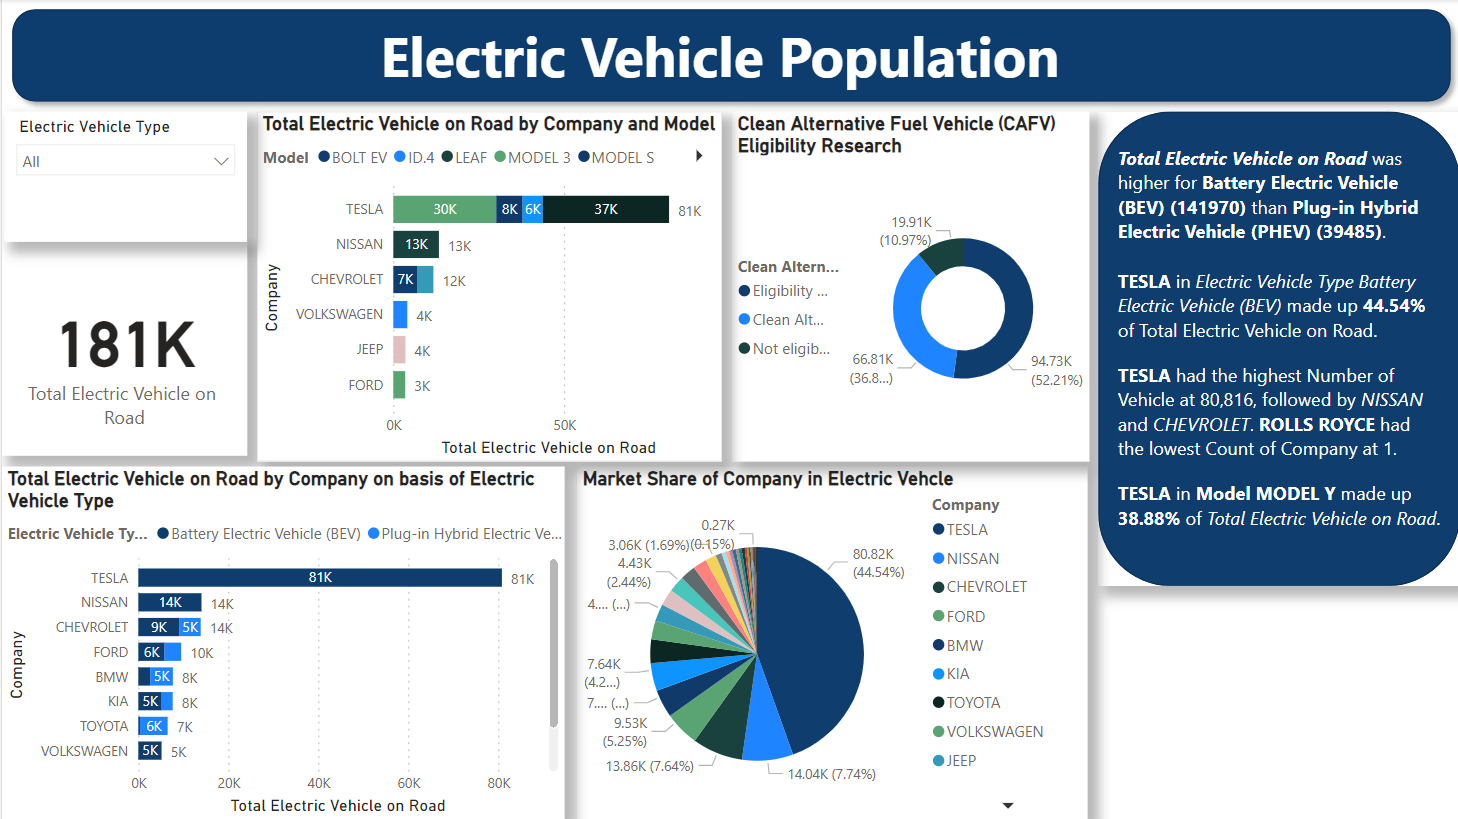

The dashboard page shown, as its layout file describes it:
{"tool":"powerbi","page":{"name":"Dashboard","canvas":[1280,720],"ordinal":0},"visuals":[{"type":"card","fields":{"Values":["Electric_Vehicle_Population_Data.Electric Vehicle Type on Road"]},"box":[0,212.7,215.2,188.3],"z":0},{"type":"shape","box":[0,0,1280,99],"z":1000},{"type":"textbox","box":[326.8,12.4,626.4,74.3],"z":2000},{"type":"pieChart","title":"Market Share of Company in Electric Vehcle","fields":{"Y":["CountNonNull(Electric_Vehicle_Population_Data.Company)"],"Category":["Electric_Vehicle_Population_Data.Company"]},"box":[504.7,409.9,448.4,310],"z":3000},{"type":"donutChart","title":"Clean Alternative Fuel Vehicle (CAFV) Eligibility Research","fields":{"Category":["Electric_Vehicle_Population_Data.Clean Alternative Fuel Vehicle (CAFV) Eligibility"],"Y":["CountNonNull(Electric_Vehicle_Population_Data.Clean Alternative Fuel Vehicle (CAFV) Eligibility)"]},"box":[640.5,98.6,313.9,307.4],"z":4000},{"type":"barChart","fields":{"Category":["Electric_Vehicle_Population_Data.Company"],"Y":["Electric_Vehicle_Population_Data.Total Electric Vehicle on Road"],"Series":["Electric_Vehicle_Population_Data.Model"]},"box":[224.2,98.6,407.4,307.4],"z":5000},{"type":"barChart","title":"Total Electric Vehicle on Road by Company on basis of Electric Vehicle Type","fields":{"Category":["Electric_Vehicle_Population_Data.Company"],"Y":["Electric_Vehicle_Population_Data.Total Electric Vehicle on Road"],"Series":["Electric_Vehicle_Population_Data.Electric Vehicle Type"]},"box":[0,409.9,493.2,310],"z":6000},{"type":"shape","box":[962.1,98.6,317.7,416.3],"z":7000},{"type":"textbox","box":[973.6,123,293.4,370.2],"z":9000},{"type":"slicer","fields":{"Values":["Electric_Vehicle_Population_Data.Electric Vehicle Type"]},"box":[2.6,98.6,212.7,114],"z":10000}]}

Visuals, with their boxes in screenshot pixels (x1, y1, x2, y2), scaled from the page's 1280x720 canvas onto the 1458x819 screenshot:
card - Electric_Vehicle_Population_Data.Electric Vehicle Type on Road: bbox(0, 242, 245, 456)
shape: bbox(0, 0, 1457, 113)
textbox: bbox(372, 14, 1086, 99)
"Market Share of Company in Electric Vehcle" pieChart: bbox(575, 466, 1086, 818)
"Clean Alternative Fuel Vehicle (CAFV) Eligibility Research" donutChart: bbox(730, 112, 1087, 462)
barChart - Electric_Vehicle_Population_Data.Company x Electric_Vehicle_Population_Data.Total Electric Vehicle on Road: bbox(255, 112, 719, 462)
"Total Electric Vehicle on Road by Company on basis of Electric Vehicle Type" barChart: bbox(0, 466, 562, 818)
shape: bbox(1096, 112, 1457, 586)
textbox: bbox(1109, 140, 1443, 561)
slicer - Electric_Vehicle_Population_Data.Electric Vehicle Type: bbox(3, 112, 245, 242)
